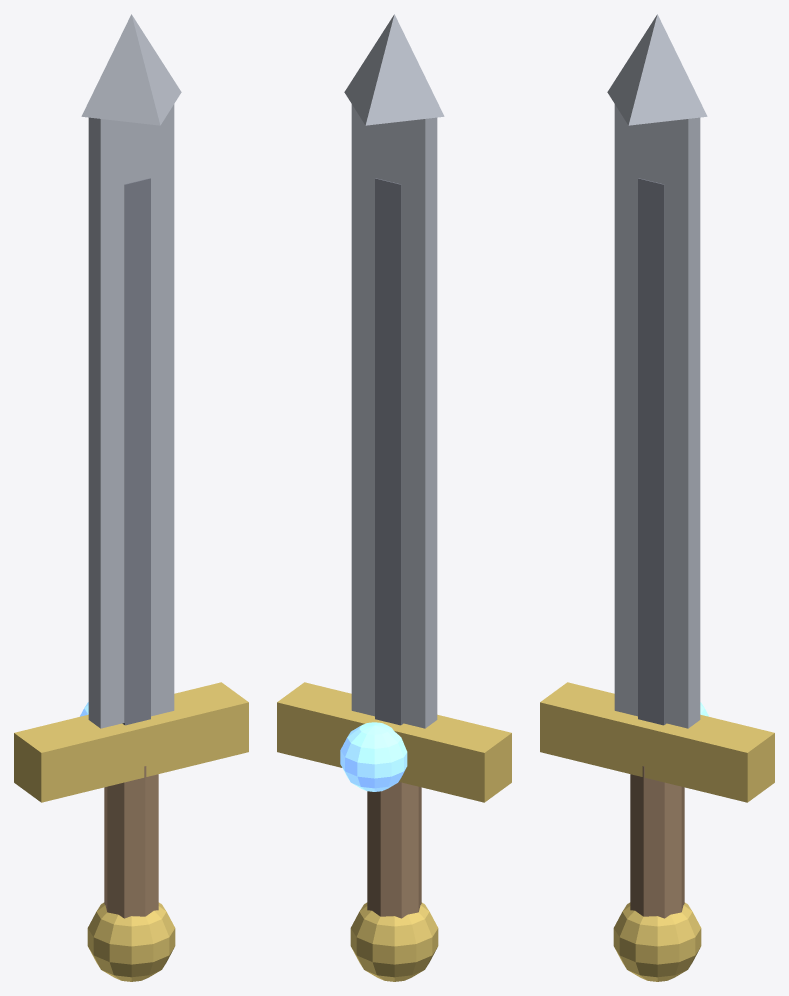
The model's file is sword_knight.glb.
3 renders of one model, left to right at view 1: azimuth 30°, elevation 25°; view 2: azimuth 150°, elevation 25°; view 3: azimuth 330°, elevation 25°, orthographic.
Visible parts, largest first — view 1: sword_knight_04, sword_knight_02, sword_knight_05, sword_knight_00, sword_knight_06, sword_knight_01; view 2: sword_knight_04, sword_knight_05, sword_knight_02, sword_knight_00, sword_knight_06, sword_knight_01, sword_knight_03; view 3: sword_knight_04, sword_knight_02, sword_knight_05, sword_knight_00, sword_knight_06, sword_knight_01.
Part boxes in pixels (<box>): sword_knight_04: <box>88,104,174,728</box>; sword_knight_02: <box>14,682,248,802</box>; sword_knight_05: <box>122,178,150,725</box>; sword_knight_00: <box>104,766,158,918</box>; sword_knight_06: <box>81,14,181,125</box>; sword_knight_01: <box>87,902,175,981</box>; sword_knight_04: <box>351,104,437,728</box>; sword_knight_05: <box>375,178,403,725</box>; sword_knight_02: <box>277,682,511,802</box>; sword_knight_00: <box>367,782,421,918</box>; sword_knight_06: <box>344,14,444,125</box>; sword_knight_01: <box>350,902,438,981</box>; sword_knight_03: <box>340,722,407,791</box>; sword_knight_04: <box>614,104,700,728</box>; sword_knight_02: <box>540,682,774,802</box>; sword_knight_05: <box>638,178,666,725</box>; sword_knight_00: <box>630,766,684,918</box>; sword_knight_06: <box>607,14,707,125</box>; sword_knight_01: <box>613,902,701,981</box>.
Size of the model in its own units: 0.24 by 1.07 by 0.1321.
